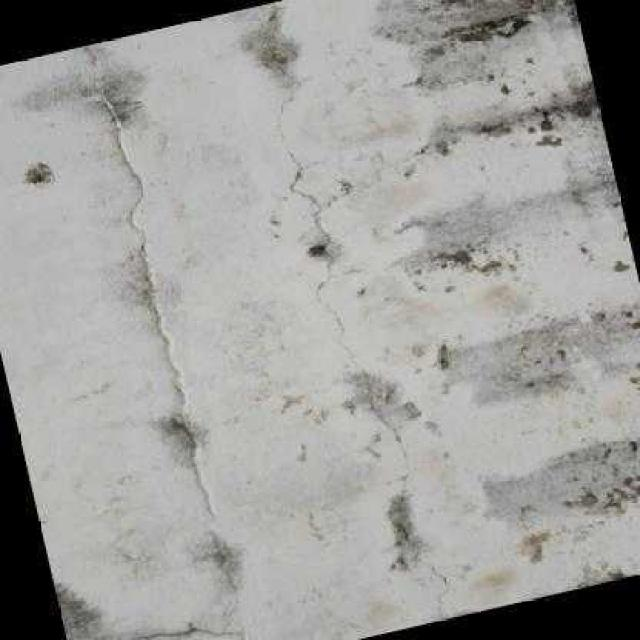D00: (275, 144, 457, 622), (74, 43, 219, 519), (108, 622, 242, 640)
